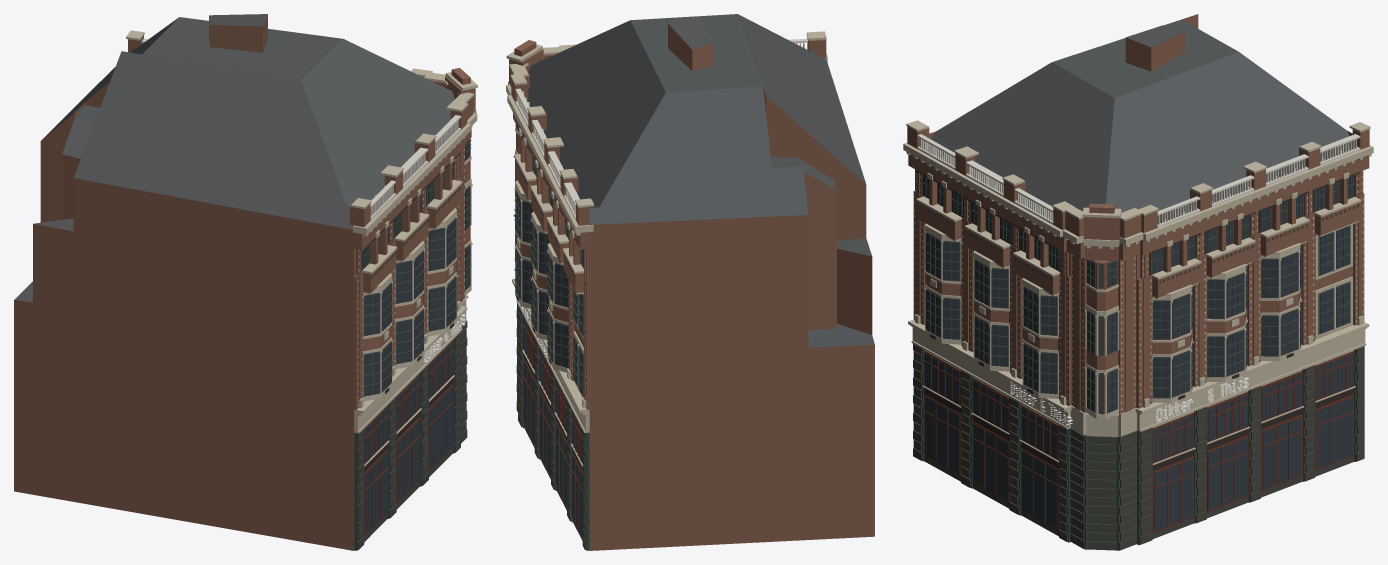
The model's file is dikker-thijs-leidsestraat.glb.
3 views of the same model, side by side, from view 1: azimuth 30°, elevation 25°; view 2: azimuth 150°, elevation 25°; view 3: azimuth 270°, elevation 25° (orthographic). The views are drawn at different scales.
Parts seen in each view (by area): view 1: dikker-thijs-leidsestraat; view 2: dikker-thijs-leidsestraat; view 3: dikker-thijs-leidsestraat.
Boxes of the visible parts, bbox=[...] form: dikker-thijs-leidsestraat: bbox=[14, 14, 477, 550]; dikker-thijs-leidsestraat: bbox=[506, 14, 874, 550]; dikker-thijs-leidsestraat: bbox=[903, 14, 1373, 550].
Bounding box in the file's own units: 26.07 × 26.94 × 26.97.
